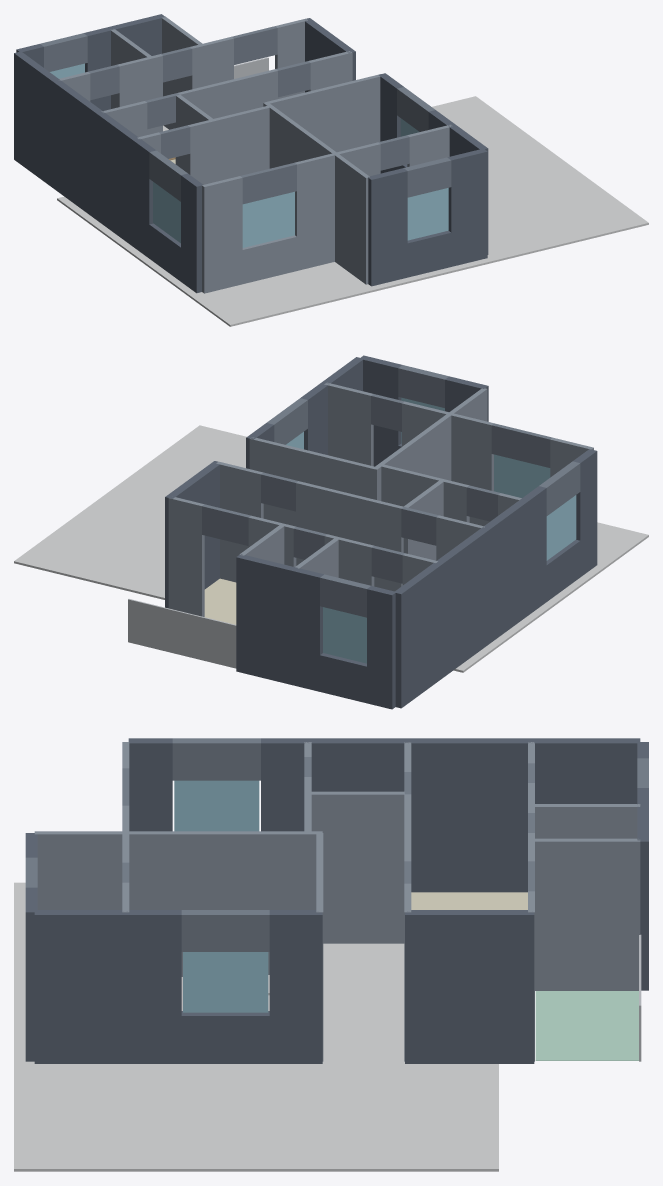
Rendered from actual_uploaded_2bhk_v1.glb.
3 renders of one model, top to bottom at view 1: azimuth 30°, elevation 25°; view 2: azimuth 150°, elevation 25°; view 3: azimuth 270°, elevation 25°, orthographic. The views are drawn at different scales.
Parts seen in each view (by area): view 1: floor_slab, wall_post_007_final, wall_010_w11, wall_003_w4, wall_post_001_01, wall_post_002_final, wall_post_001_00, wall_post_000_00, wall_post_000_final, wall_post_004_01, wall_post_006_final, wall_post_007_00 (+32 smaller); view 2: wall_post_007_final, floor_slab, wall_post_006_final, wall_post_004_01, balcony_rail_01, wall_003_w4, wall_post_001_01, wall_post_005_final, wall_010_w11, wall_post_006_00, wall_post_001_final, wall_post_004_final (+32 smaller); view 3: floor_slab, wall_post_007_final, wall_post_012_00, wall_010_w11, wall_013_w14, wall_011_w12, wall_008_w9, wall_post_012_final, room_finish_008_balcony, glass_pane_win4, sill_wall_012_win4, glass_pane_win3 (+8 smaller).
Boxes of the visible parts, x1,y1,x2,y2 form: floor_slab: (57, 96, 648, 326); wall_post_007_final: (14, 51, 156, 258); wall_010_w11: (263, 102, 369, 284); wall_003_w4: (265, 74, 380, 152); wall_post_001_01: (295, 142, 380, 270); wall_post_002_final: (187, 105, 271, 184); wall_post_001_00: (202, 176, 242, 293); wall_post_000_00: (368, 168, 407, 286); wall_post_000_final: (447, 148, 487, 266); wall_post_004_01: (178, 69, 277, 118); wall_post_006_final: (84, 14, 164, 110); wall_post_007_00: (181, 173, 203, 293); wall_post_007_final: (394, 486, 546, 708); floor_slab: (14, 425, 648, 672); wall_post_006_final: (236, 554, 323, 691); wall_post_004_01: (296, 481, 403, 591); balcony_rail_01: (128, 599, 236, 668); wall_003_w4: (249, 437, 376, 526); wall_post_001_01: (402, 401, 493, 526); wall_post_005_final: (168, 497, 204, 616); wall_010_w11: (374, 388, 487, 500); wall_post_006_00: (367, 586, 395, 709); wall_post_001_final: (324, 382, 373, 466); wall_post_004_final: (216, 461, 263, 582); floor_slab: (14, 882, 498, 1171); wall_post_007_final: (261, 738, 640, 892); wall_post_012_00: (34, 910, 181, 1063); wall_010_w11: (34, 831, 322, 976); wall_013_w14: (405, 910, 534, 1063); wall_011_w12: (535, 838, 640, 990); wall_008_w9: (305, 791, 404, 943); wall_post_012_final: (269, 910, 322, 1063); room_finish_008_balcony: (535, 991, 638, 1060); glass_pane_win4: (183, 952, 268, 1012); sill_wall_012_win4: (181, 1011, 269, 1063); glass_pane_win3: (174, 780, 259, 831).
Size of the model in its own units: 11.52 by 2.85 by 10.8.
